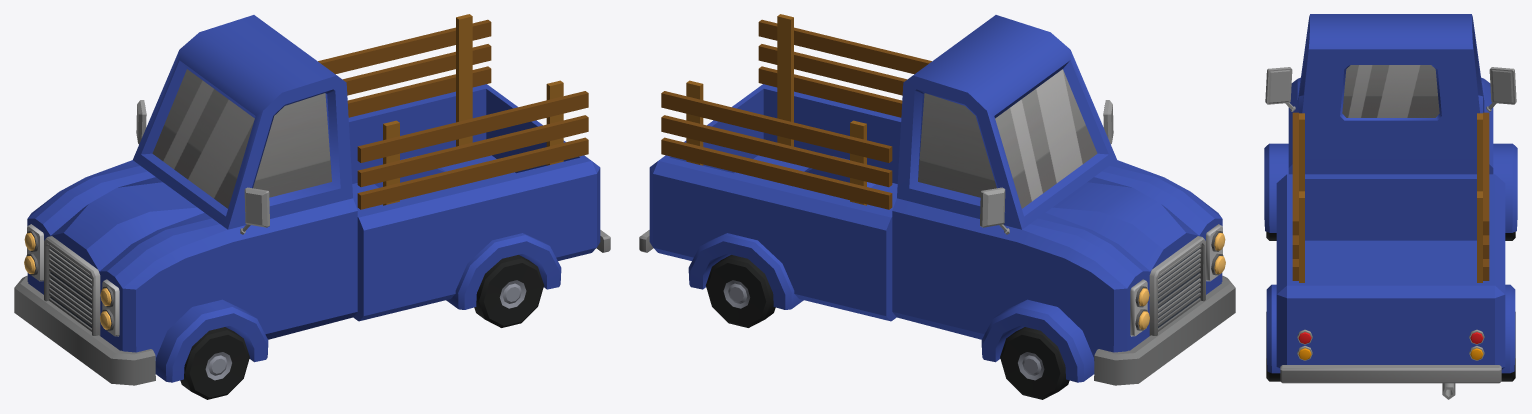
File: Car_12_C.gltf
3 views of the same model, side by side, from view 1: azimuth 30°, elevation 25°; view 2: azimuth 150°, elevation 25°; view 3: azimuth 270°, elevation 25° (orthographic). The views are drawn at different scales.
Visible parts, largest first — view 1: Car_12_C, RL, FL; view 2: Car_12_C, RR, FR; view 3: Car_12_C.
Part boxes in pixels (x1,y1,x2,y2): Car_12_C: (14,14,610,385); RL: (474,255,544,327); FL: (180,327,249,399); Car_12_C: (639,14,1235,385); RR: (705,255,775,327); FR: (1000,327,1069,399); Car_12_C: (1264,14,1517,399).
Bounding box in the file's own units: 3.82 × 2.01 × 1.73.
4 materials, 4 textured.
